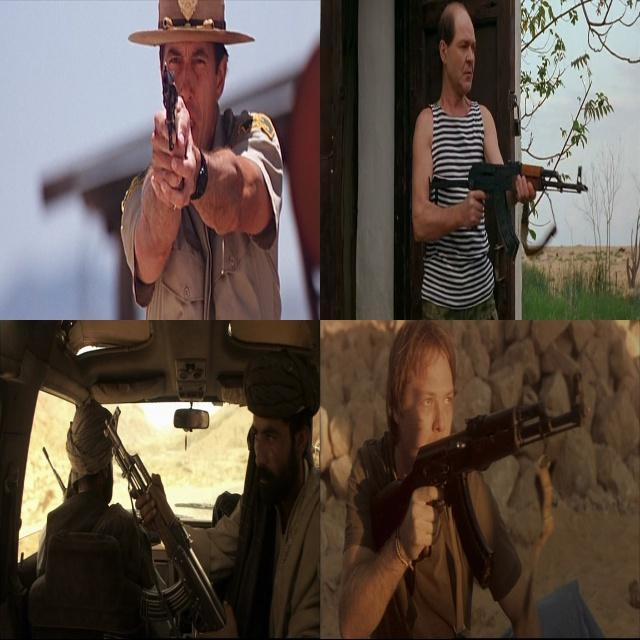gun-knife-thesis - v11 Yolov5 augmented: (369, 399, 584, 576), (101, 405, 232, 634), (421, 145, 592, 250), (157, 62, 182, 153)
